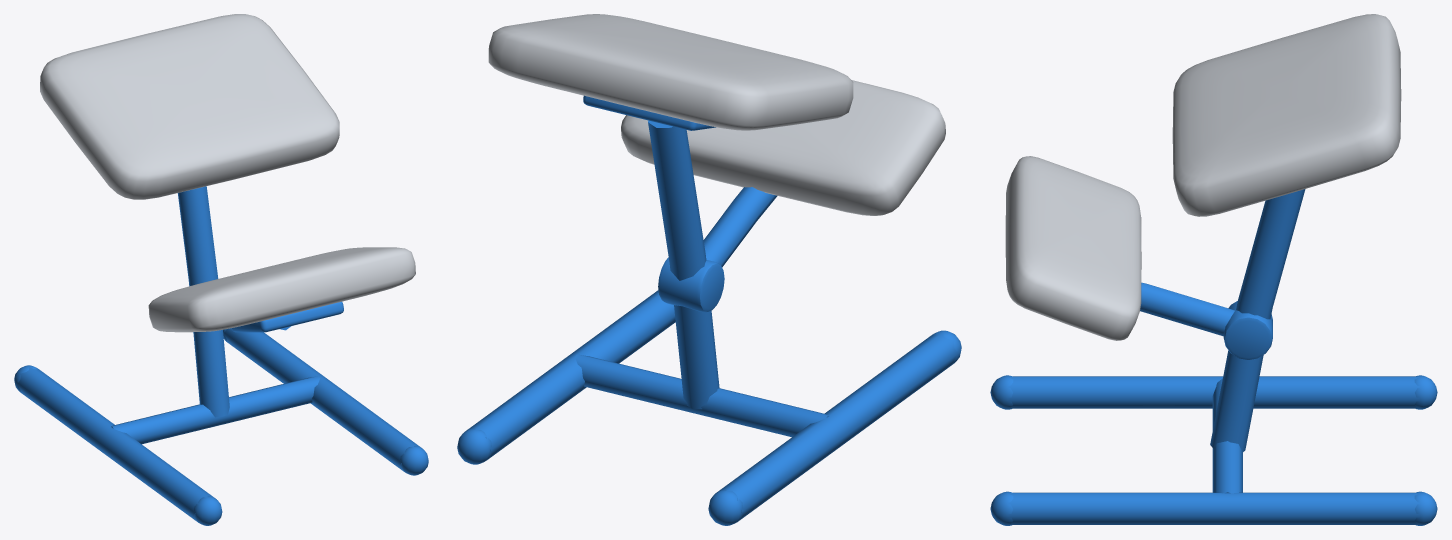
File: cadeira_ajoelhar_azul.glb
3 views of the same model, side by side, from view 1: azimuth 30°, elevation 25°; view 2: azimuth 150°, elevation 25°; view 3: azimuth 270°, elevation 25° (orthographic). The views are drawn at different scales.
Parts seen in each view (by area): view 1: cadeira_ajoelhar_azul; view 2: cadeira_ajoelhar_azul; view 3: cadeira_ajoelhar_azul.
Boxes of the visible parts, x1,y1,x2,y2 form: cadeira_ajoelhar_azul: (14,14,428,525); cadeira_ajoelhar_azul: (457,14,961,525); cadeira_ajoelhar_azul: (990,14,1437,525).
Size of the model in its own units: 0.45 by 0.6406 by 0.65.
1 material, 1 textured.
